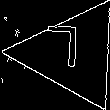L_S: (53, 28, 91, 79)
